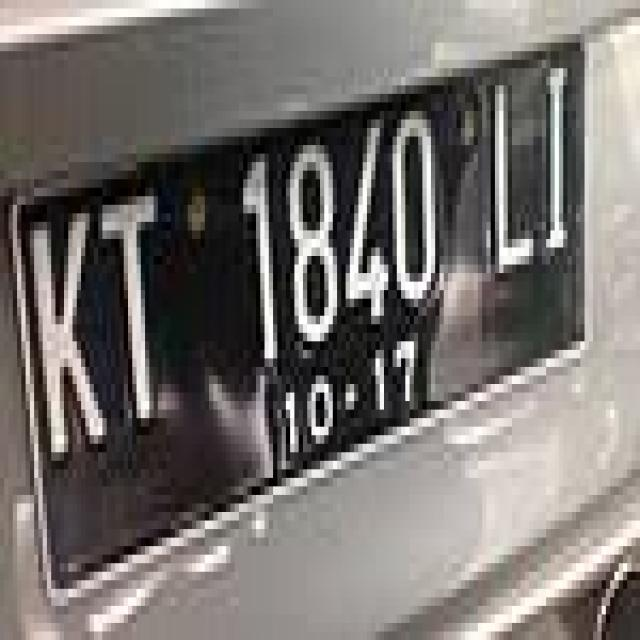license-plat: (8, 24, 600, 605)
